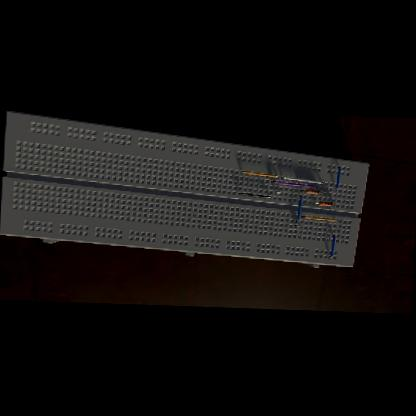breadboard: (0, 108, 369, 267)
resistor: (317, 200, 331, 206), (304, 188, 318, 193)
wire: (270, 180, 316, 186), (280, 176, 322, 182), (240, 170, 277, 176), (300, 214, 336, 220), (294, 194, 302, 220), (327, 234, 334, 257), (238, 191, 270, 196), (334, 164, 340, 188), (294, 224, 301, 226), (273, 191, 280, 192), (312, 201, 318, 202), (319, 192, 320, 192)
